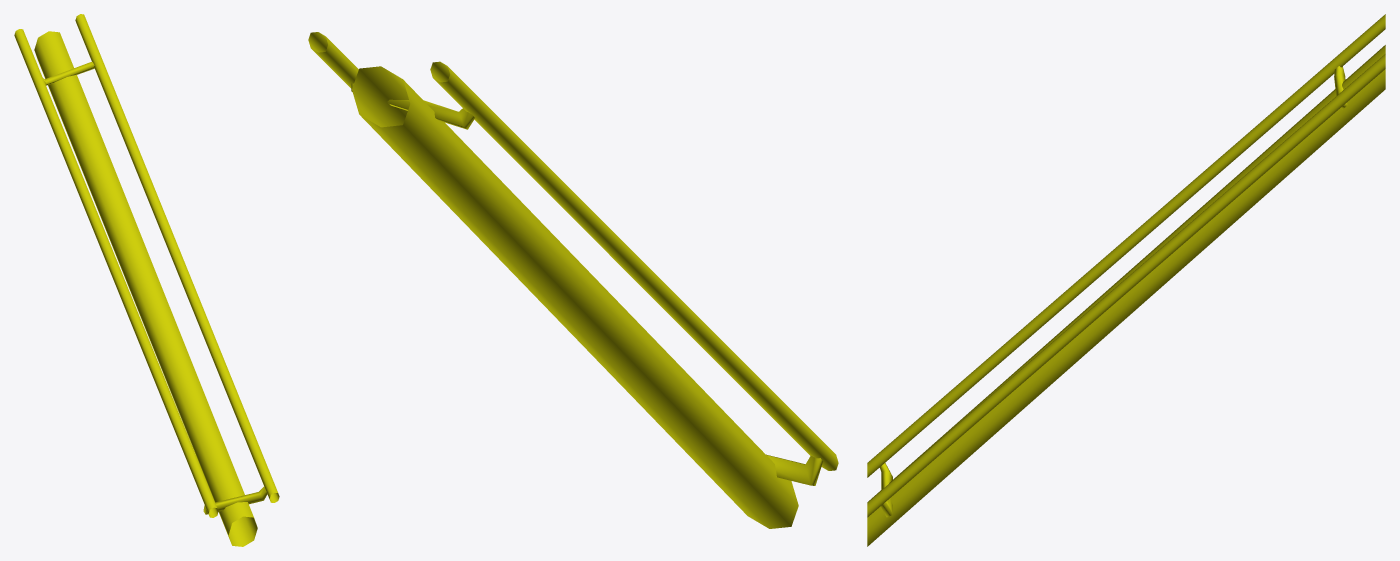
3 views of the same model, side by side, from view 1: azimuth 30°, elevation 25°; view 2: azimuth 150°, elevation 25°; view 3: azimuth 270°, elevation 25° (orthographic). The views are drawn at different scales.
Visible parts, largest first — view 1: Mesh; view 2: Mesh; view 3: Mesh.
Part boxes in pixels (x1=…): Mesh: x1=14, y1=14, x2=279, y2=546; Mesh: x1=308, y1=32, x2=838, y2=528; Mesh: x1=867, y1=14, x2=1385, y2=546.
Bounding box in the file's own units: 66.06 × 341 × 313.
